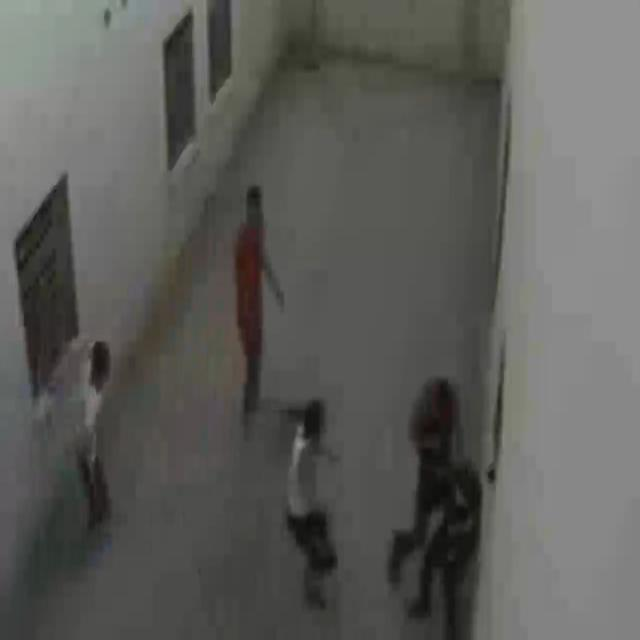fight: (386, 378, 483, 638)
